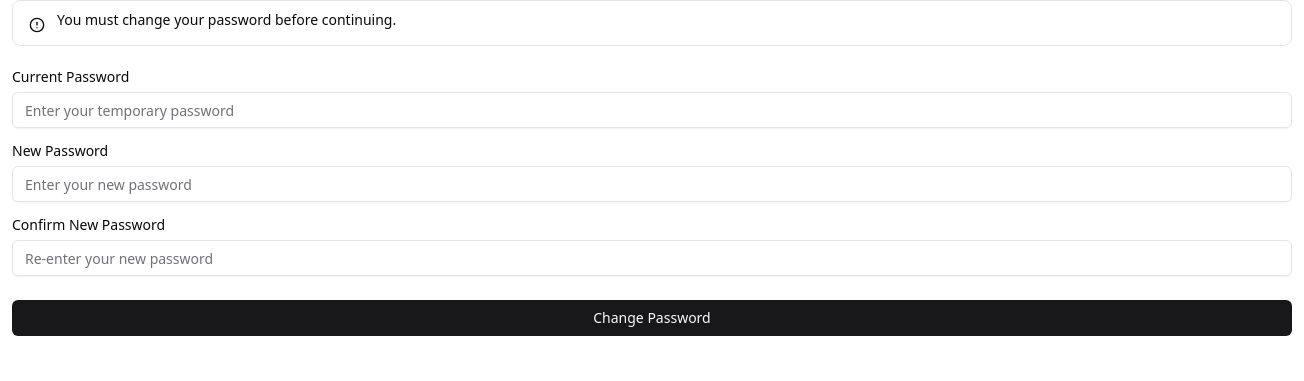
Test case: ChangePasswordForm › rejects mismatched passwords
This screenshot has width=1304, height=381.
Type "temppass123" into the password field labelled "Current Password" at (652, 110), box [12,92,1292,128]
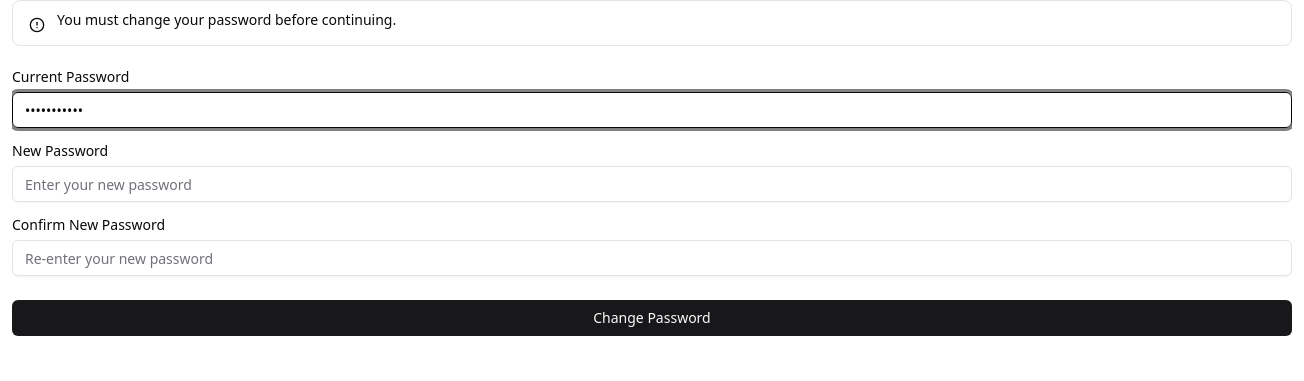
Type "newstrongpass1" into the password field labelled "New Password" at (652, 184), box [12,166,1292,202]
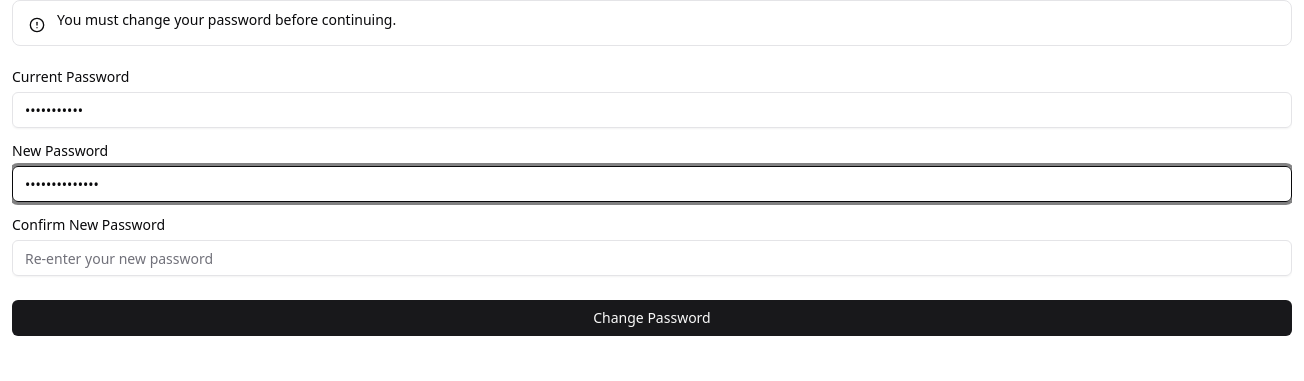
Type "different123" into the password field labelled "Confirm New Password" at (652, 258), box [12,240,1292,276]
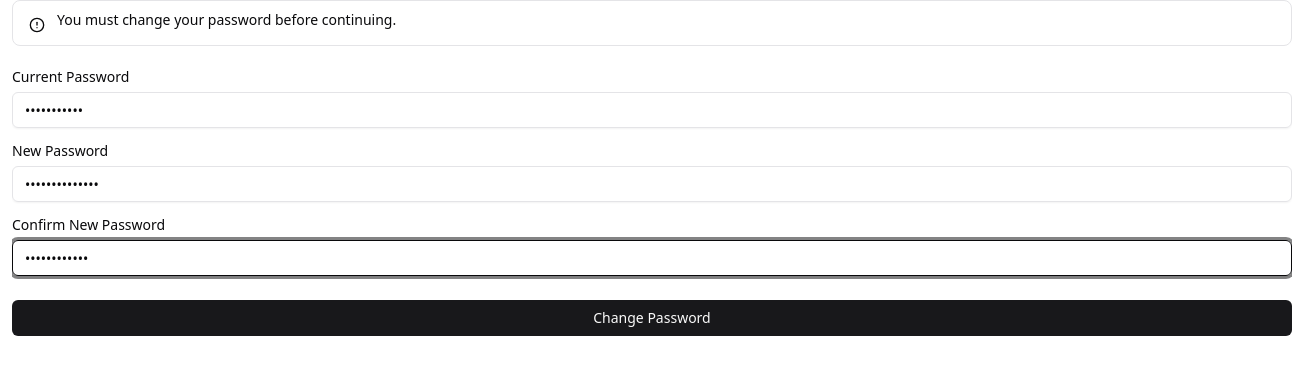
Click the button "Change Password" at (652, 318), box [12,300,1292,336]
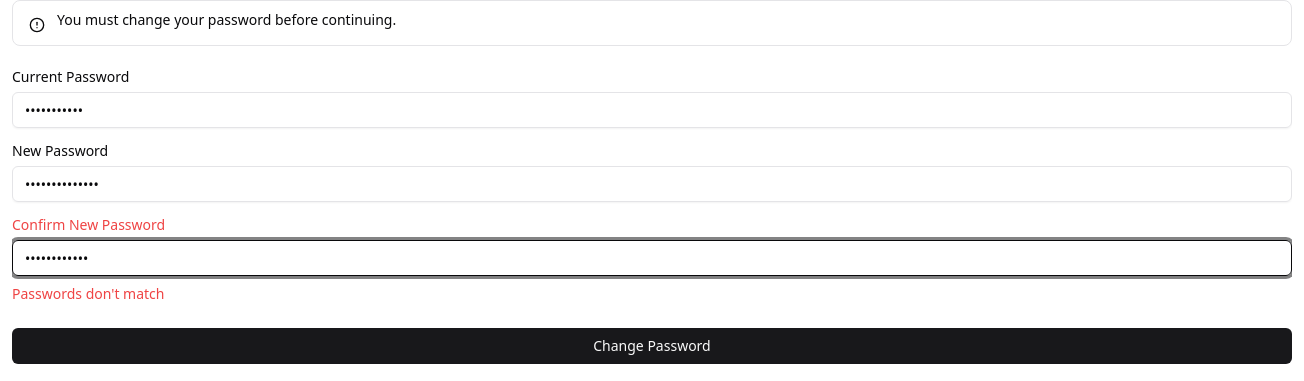
Result: the text "Passwords don't match" is shown at [12,284,164,303]
